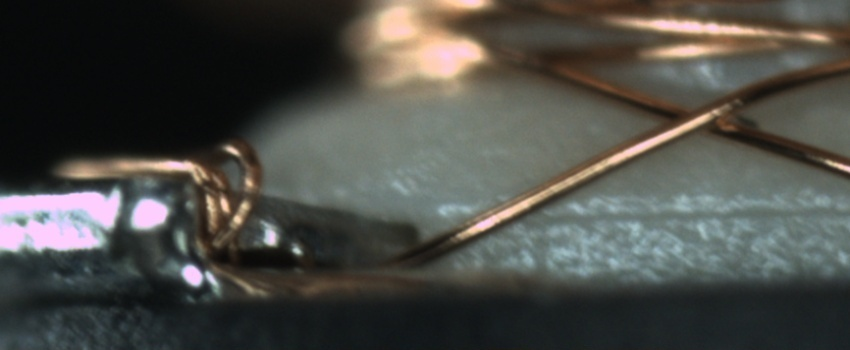CL: (636, 90, 762, 143)
DL: (516, 182, 849, 243)
TE: (54, 122, 270, 269)
